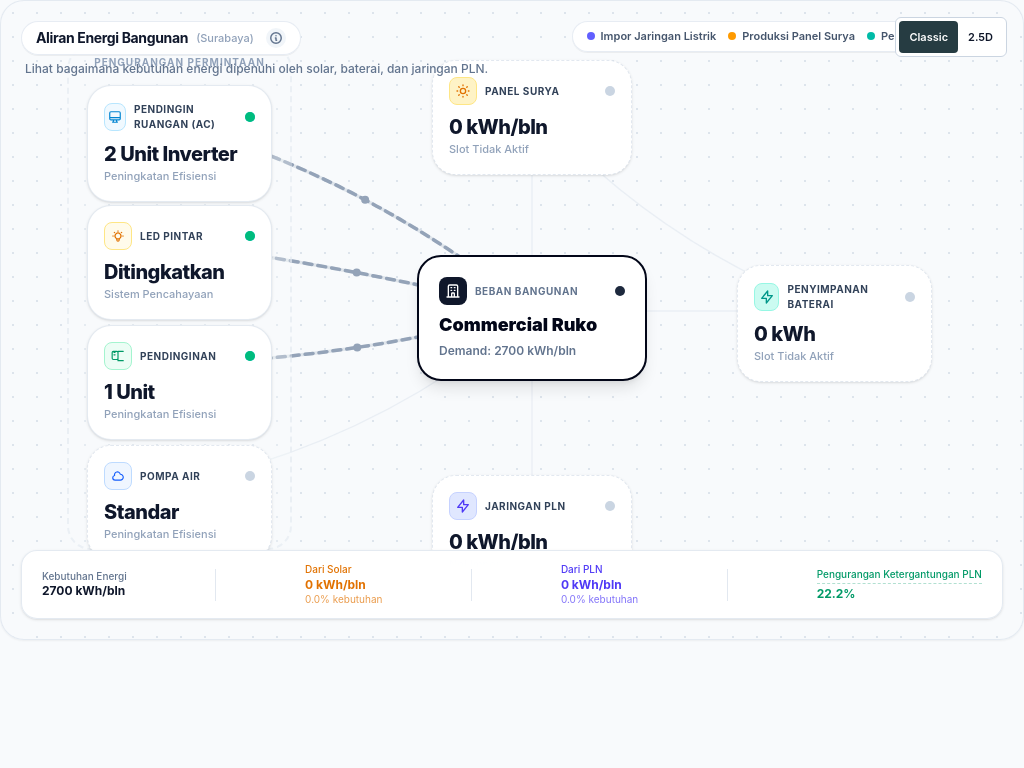
Scenario: Energy Twin 2.5D › keeps optional assets visibly inactive and hides their active flows when the result disables them
Step 1. Click the button "2.5D" → (980, 37), box [958, 21, 1003, 53]
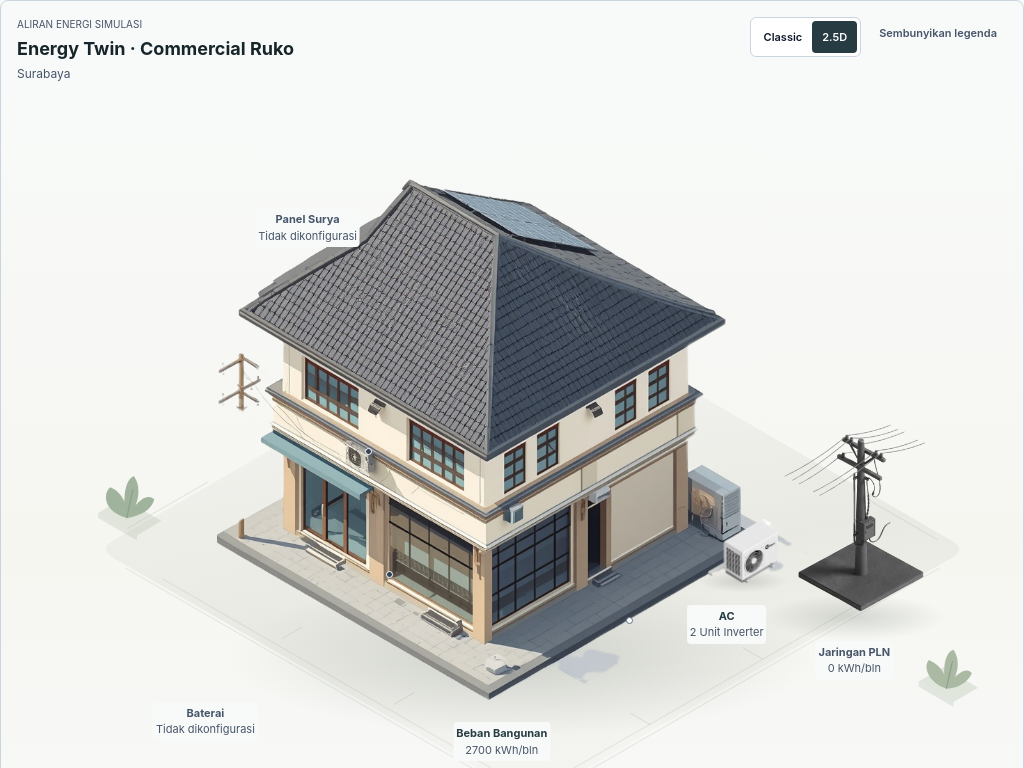
Expected: the text "Tidak dikonfigurasi" is shown 2 times, [258, 229, 357, 243]; [156, 722, 255, 736]
Expected: the button with class "energy-twin-label-battery" shows "Baterai", [153, 702, 258, 741]
